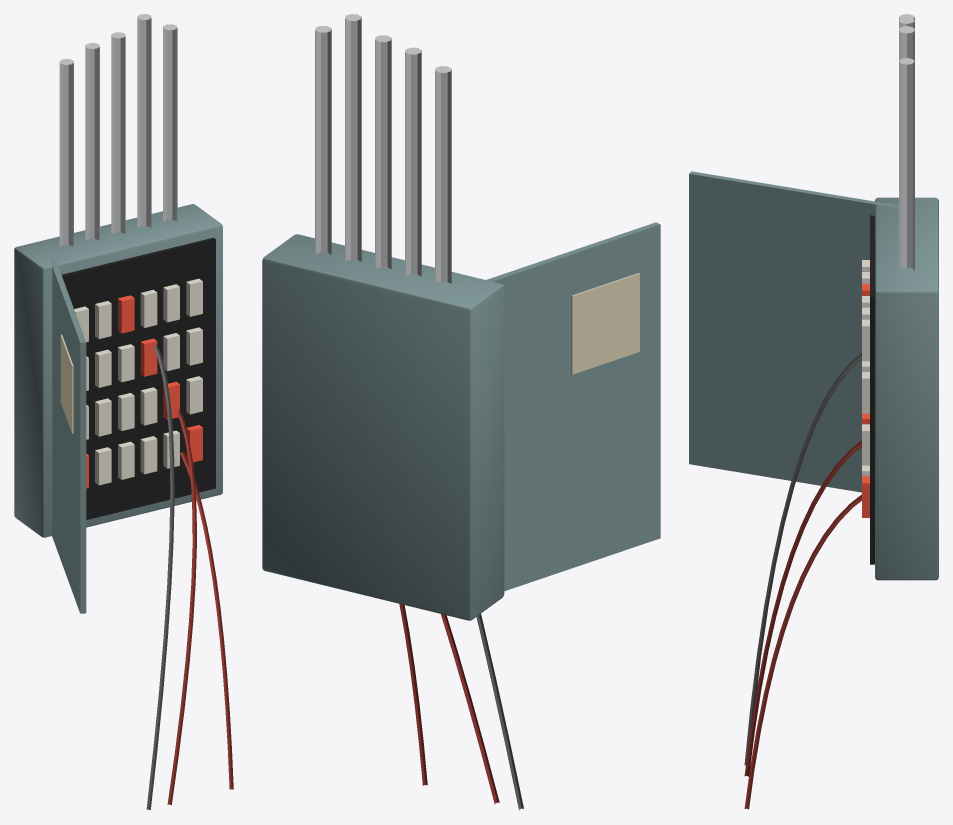
Rendered from electrical_panel.glb.
3 views of the same model, side by side, from view 1: azimuth 30°, elevation 25°; view 2: azimuth 150°, elevation 25°; view 3: azimuth 270°, elevation 25° (orthographic). The views are drawn at different scales.
Parts seen in each view (by area): view 1: electrical_panel; view 2: electrical_panel; view 3: electrical_panel.
Part boxes in pixels (left/top/right/bottom): electrical_panel: left=14, top=14, right=233, bottom=809; electrical_panel: left=262, top=14, right=660, bottom=810; electrical_panel: left=689, top=14, right=938, bottom=809.
Size of what is drawn, in the model's own units: 0.8861 by 2.66 by 0.7798.
